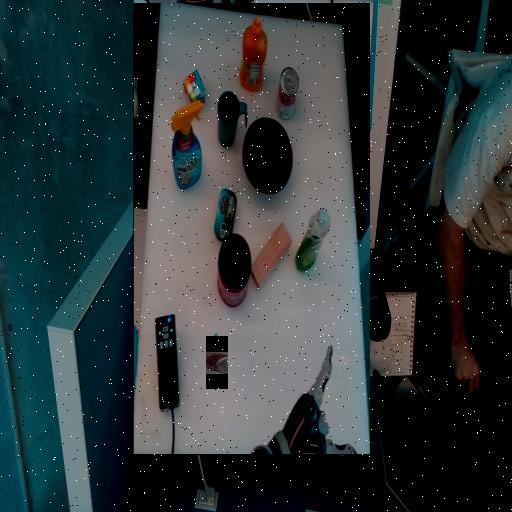bowl: (212, 262, 261, 337)
cleanser: (174, 186, 209, 248)
coffee_can: (254, 149, 286, 221)
jaco: (146, 1, 253, 110)
meat_can: (267, 216, 289, 268)
mug: (257, 322, 286, 350)
mustard_bottle: (238, 365, 263, 438)
rubik: (300, 353, 320, 387)
soup_can: (206, 352, 227, 373)
windex: (302, 297, 333, 327)
wooden_block: (213, 166, 253, 232)
workspace: (134, 3, 370, 454)
